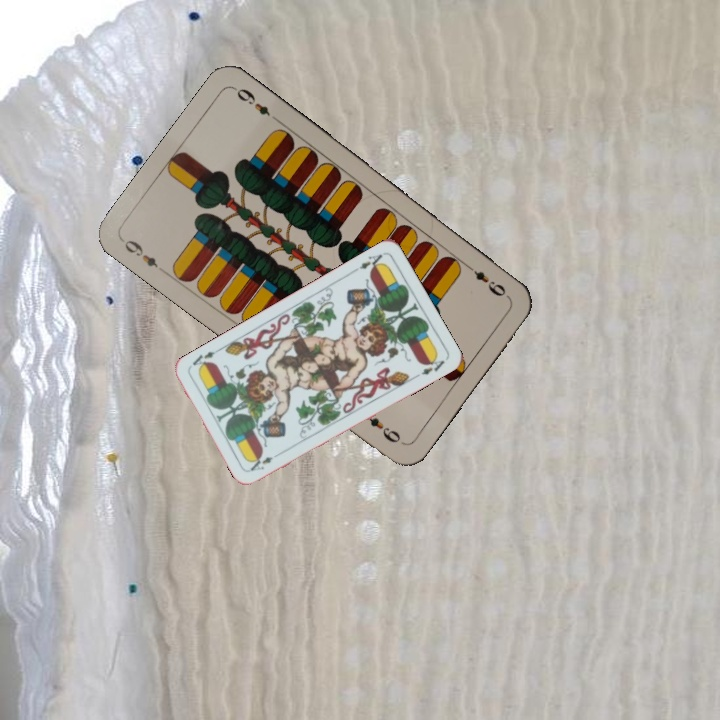E9: (461, 260, 512, 300), (120, 235, 161, 271)
EA: (246, 448, 284, 474), (349, 250, 386, 275)
